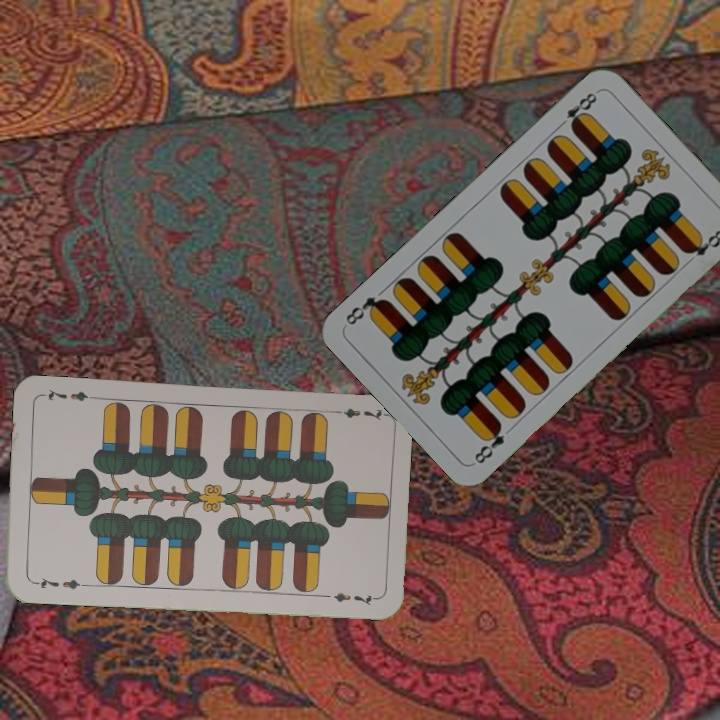E7: (29, 573, 88, 592), (328, 404, 387, 423)
E8: (553, 88, 600, 132), (470, 419, 507, 467)
